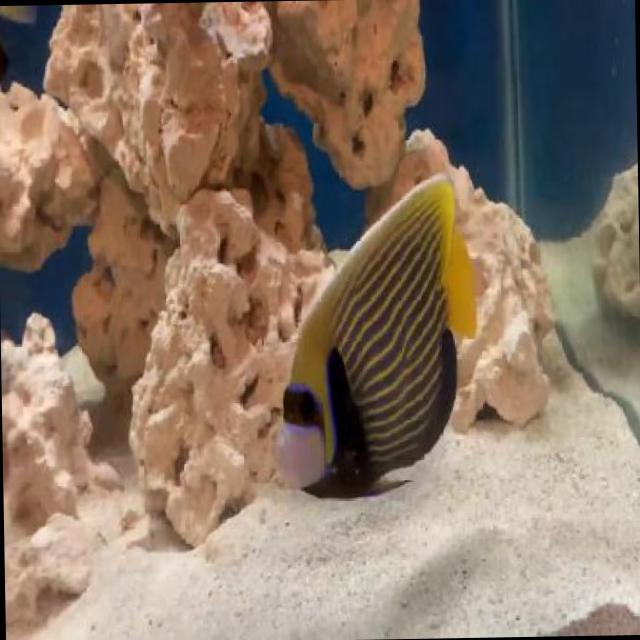AngelFish: (266, 174, 460, 500)
